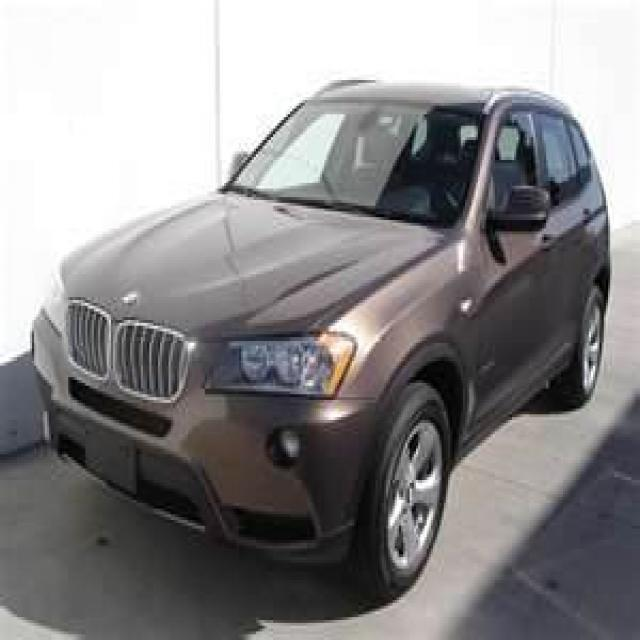Car: (25, 67, 632, 607)
